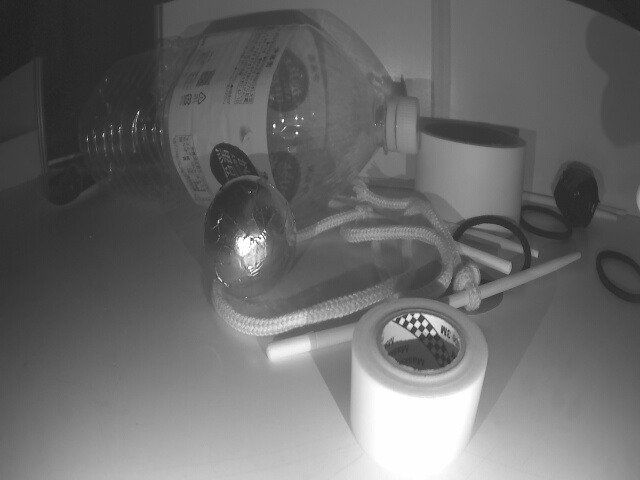Dead: (558, 160, 599, 226)
Live: (206, 182, 290, 297)
